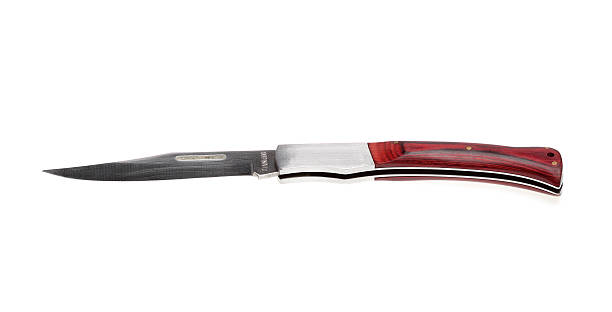knife: (41, 139, 565, 198)
